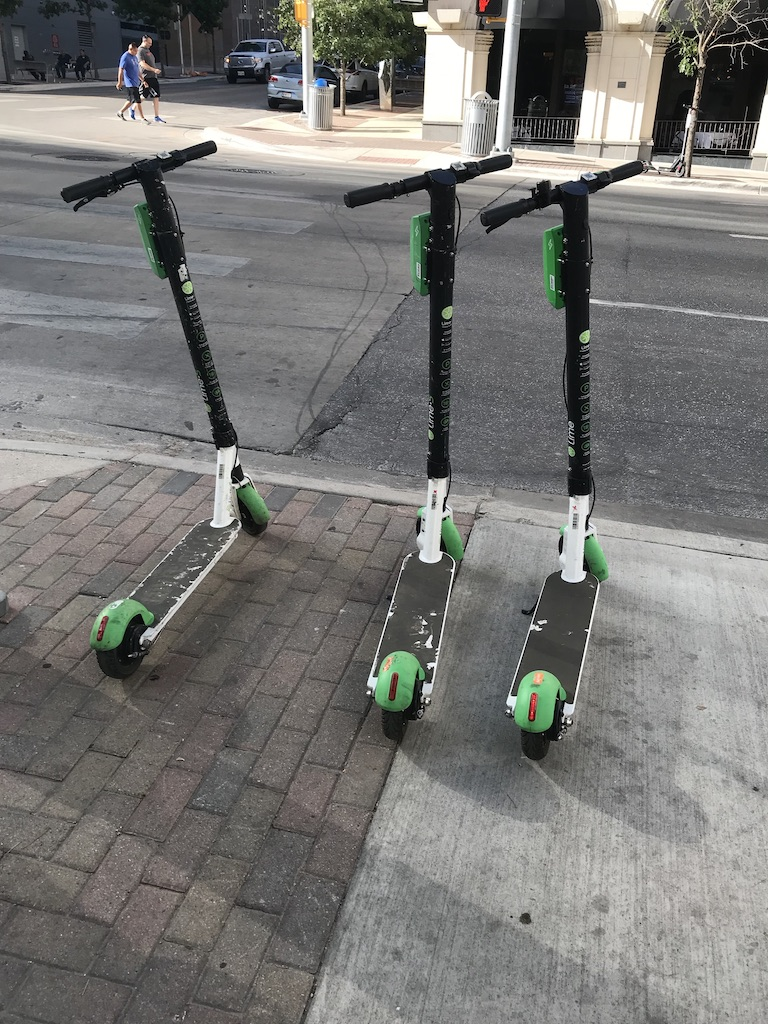scooter: (57, 140, 273, 683), (476, 158, 644, 769), (344, 153, 515, 747)
